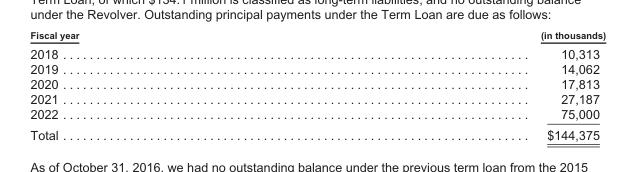table: (29, 28, 605, 141)
table column: (309, 28, 605, 141), (29, 28, 309, 141)
table column header: (29, 28, 605, 42)
table row: (29, 42, 605, 60), (29, 106, 605, 124), (29, 124, 605, 141), (29, 60, 605, 76), (29, 76, 605, 91), (29, 91, 605, 106), (29, 28, 605, 42)
